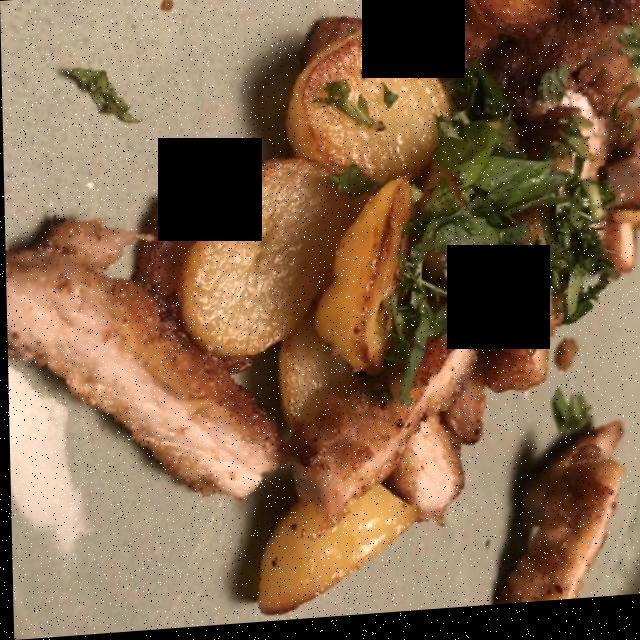fries: (141, 0, 630, 403)
pork: (15, 115, 619, 599)
